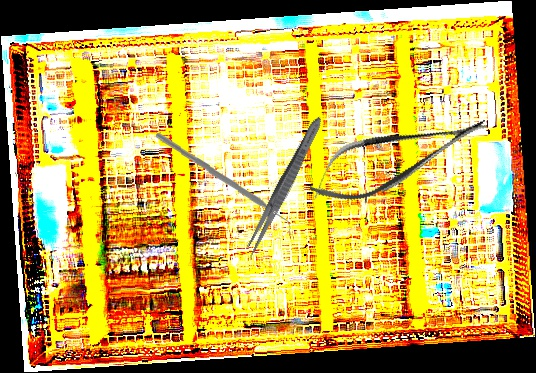Chopper: (151, 132, 296, 237)
Dressing Forceps: (241, 112, 327, 262)
Micro Scissor: (300, 98, 497, 216)
